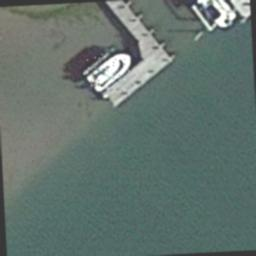boat: (82, 52, 133, 93)
